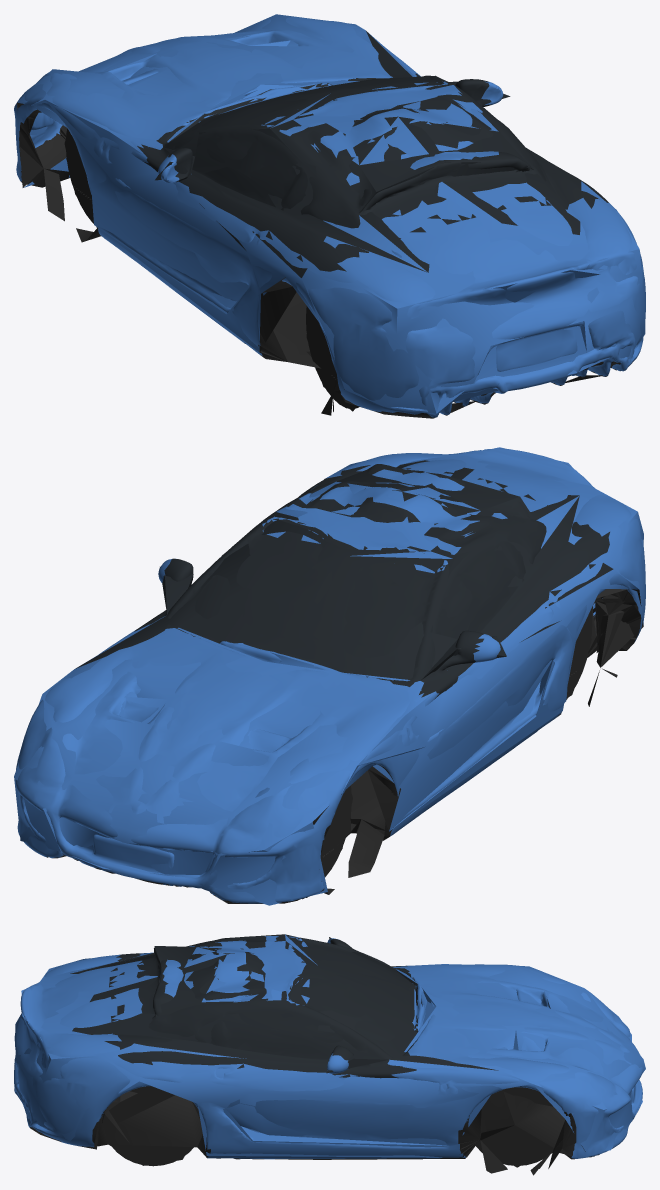
Rendered from ferrari-599-gto.glb.
3 renders of one model, top to bottom at view 1: azimuth 30°, elevation 25°; view 2: azimuth 150°, elevation 25°; view 3: azimuth 270°, elevation 25°, orthographic. The views are drawn at different scales.
Visible parts, largest first — view 1: body, far; view 2: body, far; view 3: body, far.
Part boxes in pixels (left/top/right/bottom): body: left=14, top=16, right=645, bottom=418; far: left=17, top=14, right=645, bottom=414; body: left=15, top=448, right=645, bottom=903; far: left=14, top=447, right=643, bottom=905; body: left=14, top=936, right=643, bottom=1175; far: left=14, top=934, right=645, bottom=1171.
Bounding box in the file's own units: 2.27 × 1.41 × 4.67.
